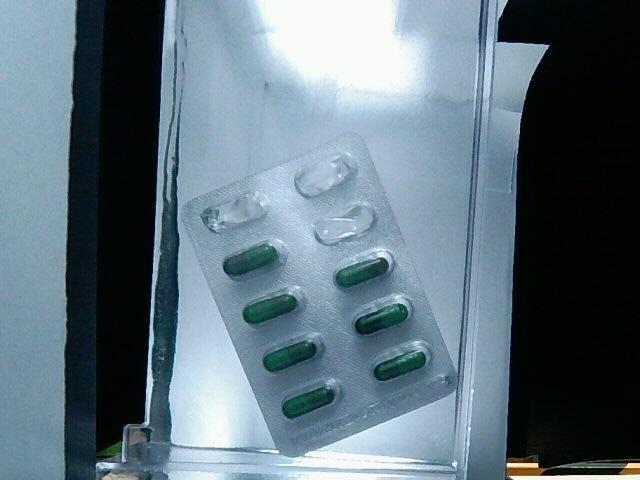Light Front: (179, 137, 456, 458)
No Pill Front: (201, 191, 269, 231), (294, 154, 357, 197), (314, 201, 376, 244)
Pill Front: (352, 300, 410, 339), (332, 251, 389, 290), (373, 345, 429, 383), (222, 241, 277, 278), (280, 384, 335, 421), (261, 338, 317, 374), (241, 291, 298, 326)
